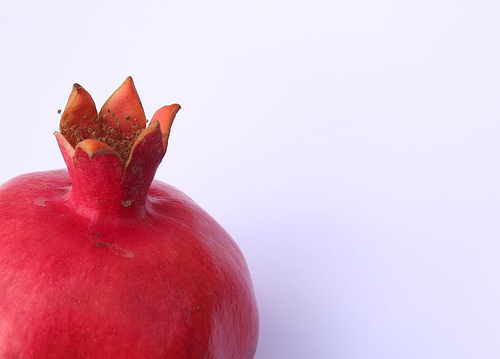pomogranate: (0, 76, 257, 358)
